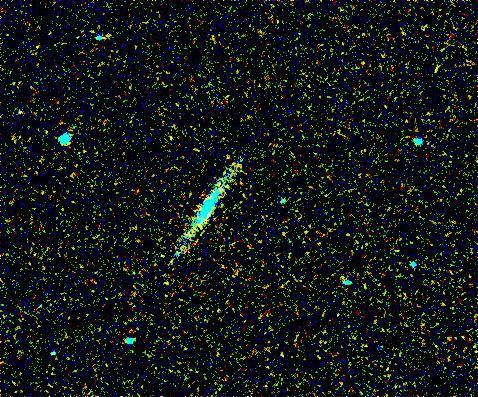star: (418, 55, 448, 85)
